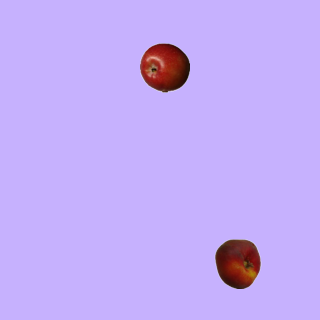Apple Braeburn: (139, 42, 189, 92)
Nectarine Flat: (212, 238, 262, 288)
